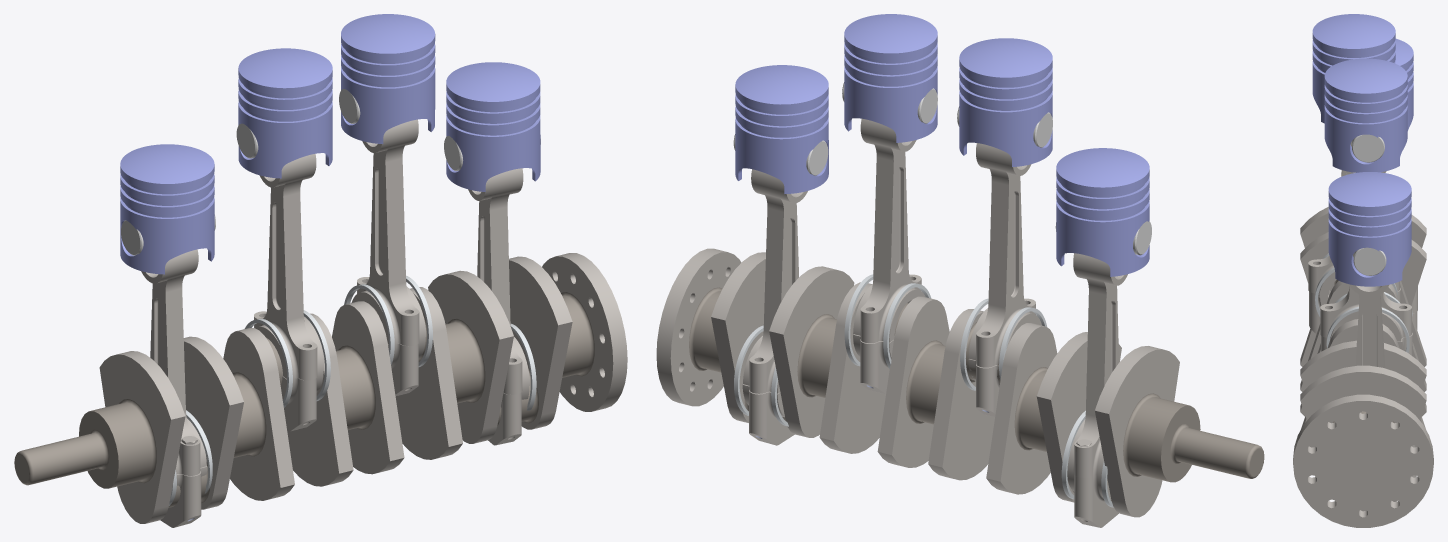
Rendered from Engine.glb.
The picture shows the model from 3 angles, left to right: view 1: azimuth 30°, elevation 25°; view 2: azimuth 150°, elevation 25°; view 3: azimuth 270°, elevation 25°; orthographic projection. The views are drawn at different scales.
Parts seen in each view (by area): view 1: 솔리드1.003, 솔리드1.014, 솔리드1.026, 솔리드1.008, 솔리드1.020, 솔리드1.019, 솔리드1.025, 솔리드1.007, 솔리드1.013, 솔리드1.022, 솔리드1.001, 솔리드1.016 (+1 smaller); view 2: 솔리드1.003, 솔리드1.008, 솔리드1.020, 솔리드1.026, 솔리드1.014, 솔리드1.019, 솔리드1.025, 솔리드1.007, 솔리드1.013, 솔리드1.001, 솔리드1.010, 솔리드1.016 (+1 smaller); view 3: 솔리드1.003, 솔리드1.014, 솔리드1.020, 솔리드1.026, 솔리드1.013, 솔리드1.019, 솔리드1.025, 솔리드1.008, 솔리드1.017, 솔리드1.011, 솔리드1.022, 솔리드1.021 (+2 smaller).
Boxes of the visible parts, bbox=[...] form: 솔리드1.003: bbox=[14, 253, 627, 523]; 솔리드1.014: bbox=[446, 62, 540, 191]; 솔리드1.026: bbox=[238, 48, 332, 178]; 솔리드1.008: bbox=[120, 144, 214, 274]; 솔리드1.020: bbox=[341, 14, 435, 143]; 솔리드1.019: bbox=[351, 119, 426, 346]; 솔리드1.025: bbox=[254, 153, 324, 380]; 솔리드1.007: bbox=[141, 249, 206, 475]; 솔리드1.013: bbox=[468, 168, 529, 394]; 솔리드1.022: bbox=[281, 371, 323, 431]; 솔리드1.001: bbox=[160, 466, 207, 527]; 솔리드1.016: bbox=[388, 337, 425, 395]; 솔리드1.003: bbox=[656, 248, 1264, 517]; 솔리드1.008: bbox=[1056, 148, 1149, 276]; 솔리드1.020: bbox=[844, 14, 937, 142]; 솔리드1.026: bbox=[959, 38, 1052, 167]; 솔리드1.014: bbox=[735, 65, 828, 193]; 솔리드1.019: bbox=[853, 118, 925, 343]; 솔리드1.025: bbox=[968, 143, 1041, 367]; 솔리드1.007: bbox=[1067, 253, 1127, 477]; 솔리드1.013: bbox=[743, 169, 807, 393]; 솔리드1.001: bbox=[1067, 469, 1119, 527]; 솔리드1.010: bbox=[742, 384, 794, 445]; 솔리드1.016: bbox=[853, 334, 893, 394]; 솔리드1.003: bbox=[1293, 207, 1433, 527]; 솔리드1.014: bbox=[1328, 172, 1411, 286]; 솔리드1.020: bbox=[1324, 58, 1407, 172]; 솔리드1.026: bbox=[1312, 14, 1395, 123]; 솔리드1.013: bbox=[1349, 253, 1415, 447]; 솔리드1.019: bbox=[1320, 142, 1411, 341]; 솔리드1.025: bbox=[1308, 170, 1399, 297]; 솔리드1.008: bbox=[1395, 38, 1413, 130]; 솔리드1.017: bbox=[1351, 134, 1384, 162]; 솔리드1.011: bbox=[1353, 247, 1386, 275]; 솔리드1.022: bbox=[1309, 288, 1400, 333]; 솔리드1.021: bbox=[1326, 306, 1409, 352].
Size of the model in its own units: 0.589 by 0.4358 by 0.144.
